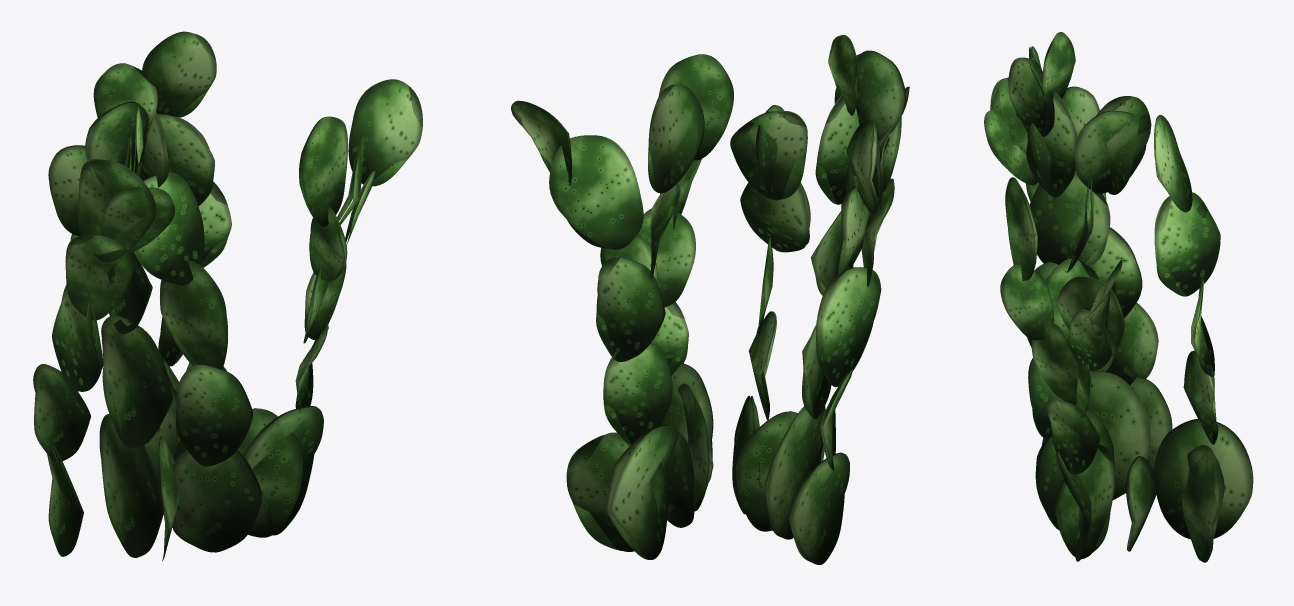
The model's file is mm7_deco_bush16.glb.
3 views of the same model, side by side, from view 1: azimuth 30°, elevation 25°; view 2: azimuth 150°, elevation 25°; view 3: azimuth 270°, elevation 25° (orthographic). The views are drawn at different scales.
Parts seen in each view (by area): view 1: Cactus; view 2: Cactus; view 3: Cactus.
Boxes of the visible parts, left/top/right/bottom form: Cactus: left=33, top=31, right=422, bottom=561; Cactus: left=511, top=35, right=909, bottom=564; Cactus: left=984, top=32, right=1253, bottom=562.
Size of the model in its own units: 1.36 by 1.6 by 1.
Materials: 1 (1 with a texture image).
